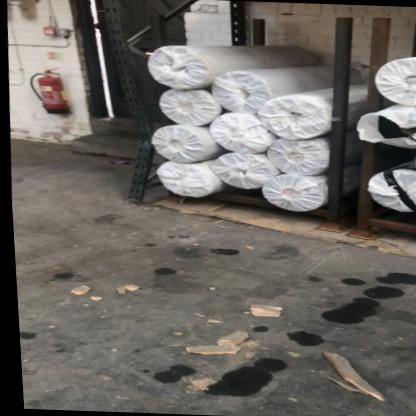vertical_damage: (112, 84, 163, 171)
